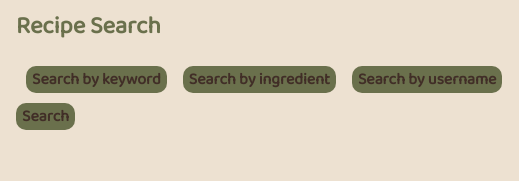
Test case: Search component › displays error message if no recipes found
This screenshot has width=519, height=181.
Click the button "Search". click: (46,116)
box: [16,103,75,130]
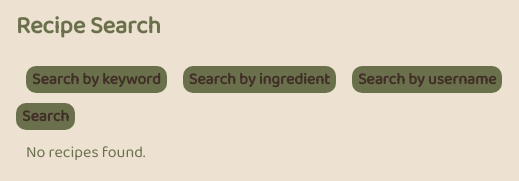
Check: the text "No recipes found." is shown, box [26,140,145,165]
